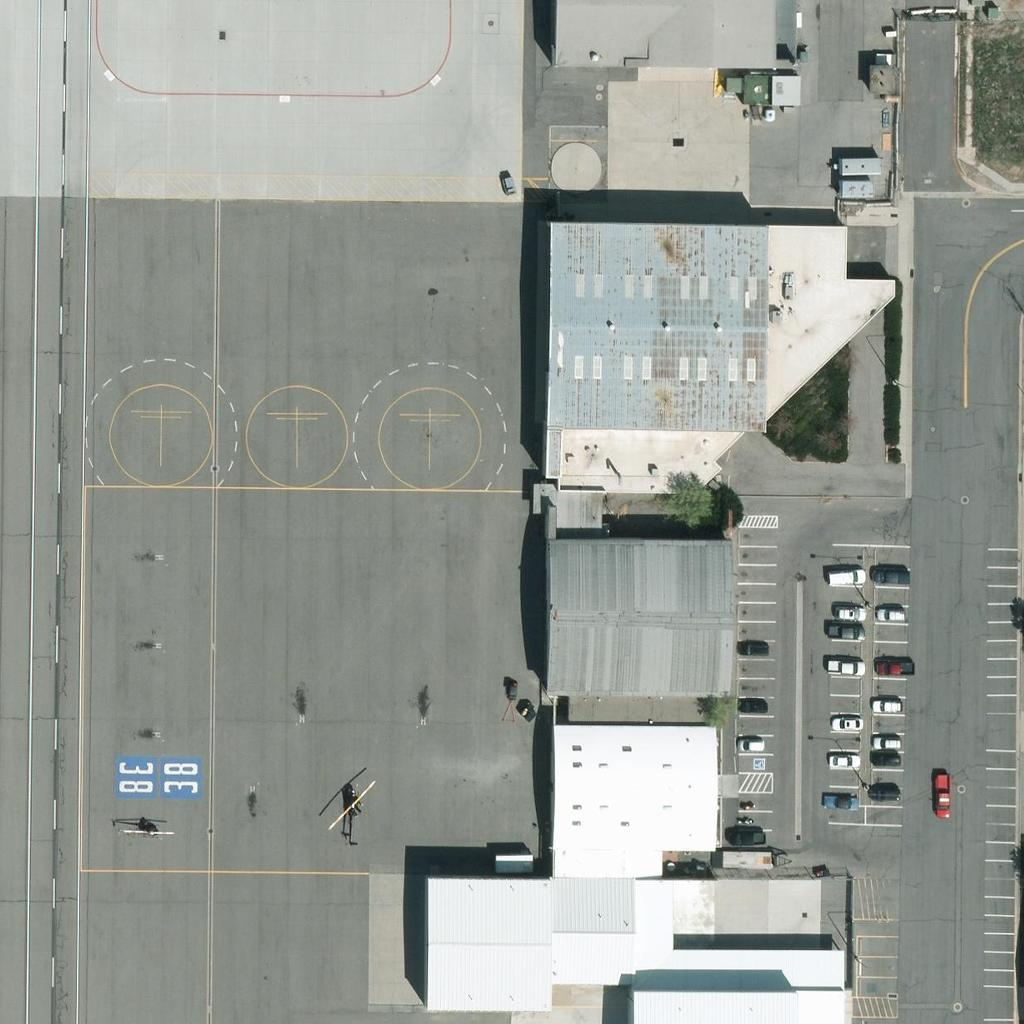car: (829, 558, 863, 592), (830, 558, 864, 592), (874, 558, 908, 592), (832, 595, 866, 629), (873, 597, 907, 631), (830, 614, 864, 648), (737, 631, 771, 665), (830, 650, 864, 684), (874, 651, 908, 685), (737, 688, 771, 722), (870, 688, 904, 722), (831, 706, 865, 740), (871, 726, 905, 760), (735, 728, 769, 762), (869, 740, 903, 774), (825, 744, 859, 778), (867, 775, 901, 809), (927, 780, 961, 814), (827, 786, 861, 820), (729, 820, 763, 854)
